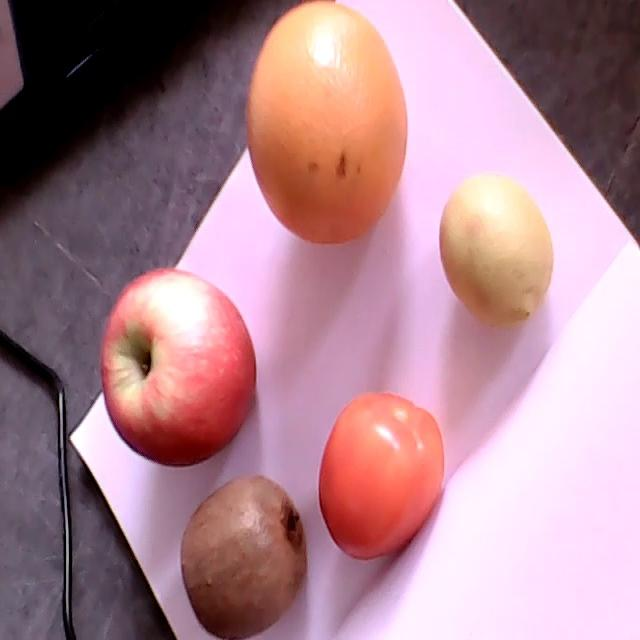apple: (100, 268, 255, 468)
kiwi: (179, 475, 307, 639)
lemon: (439, 177, 553, 326)
orange: (247, 1, 407, 244)
tomato: (317, 391, 444, 560)
